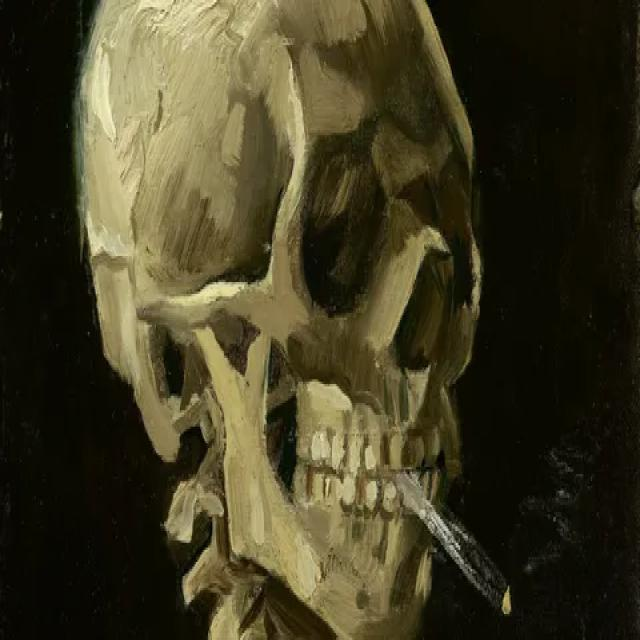skull: (72, 0, 491, 640)
